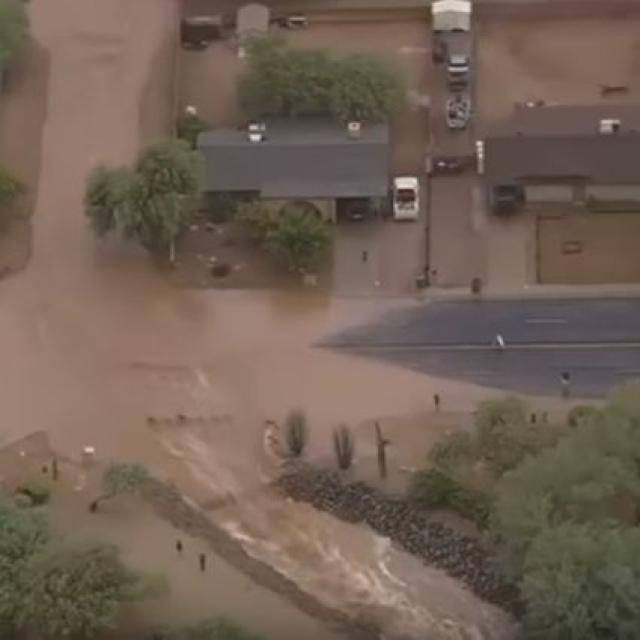flooded_areas: (6, 0, 443, 636)
